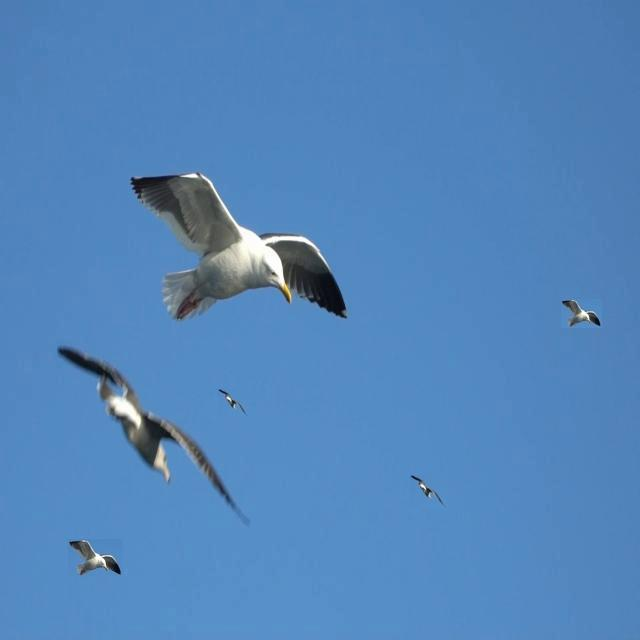bird: (54, 349, 256, 528), (127, 171, 353, 322), (70, 540, 124, 576), (562, 299, 600, 327), (412, 475, 446, 505), (218, 388, 246, 413)
